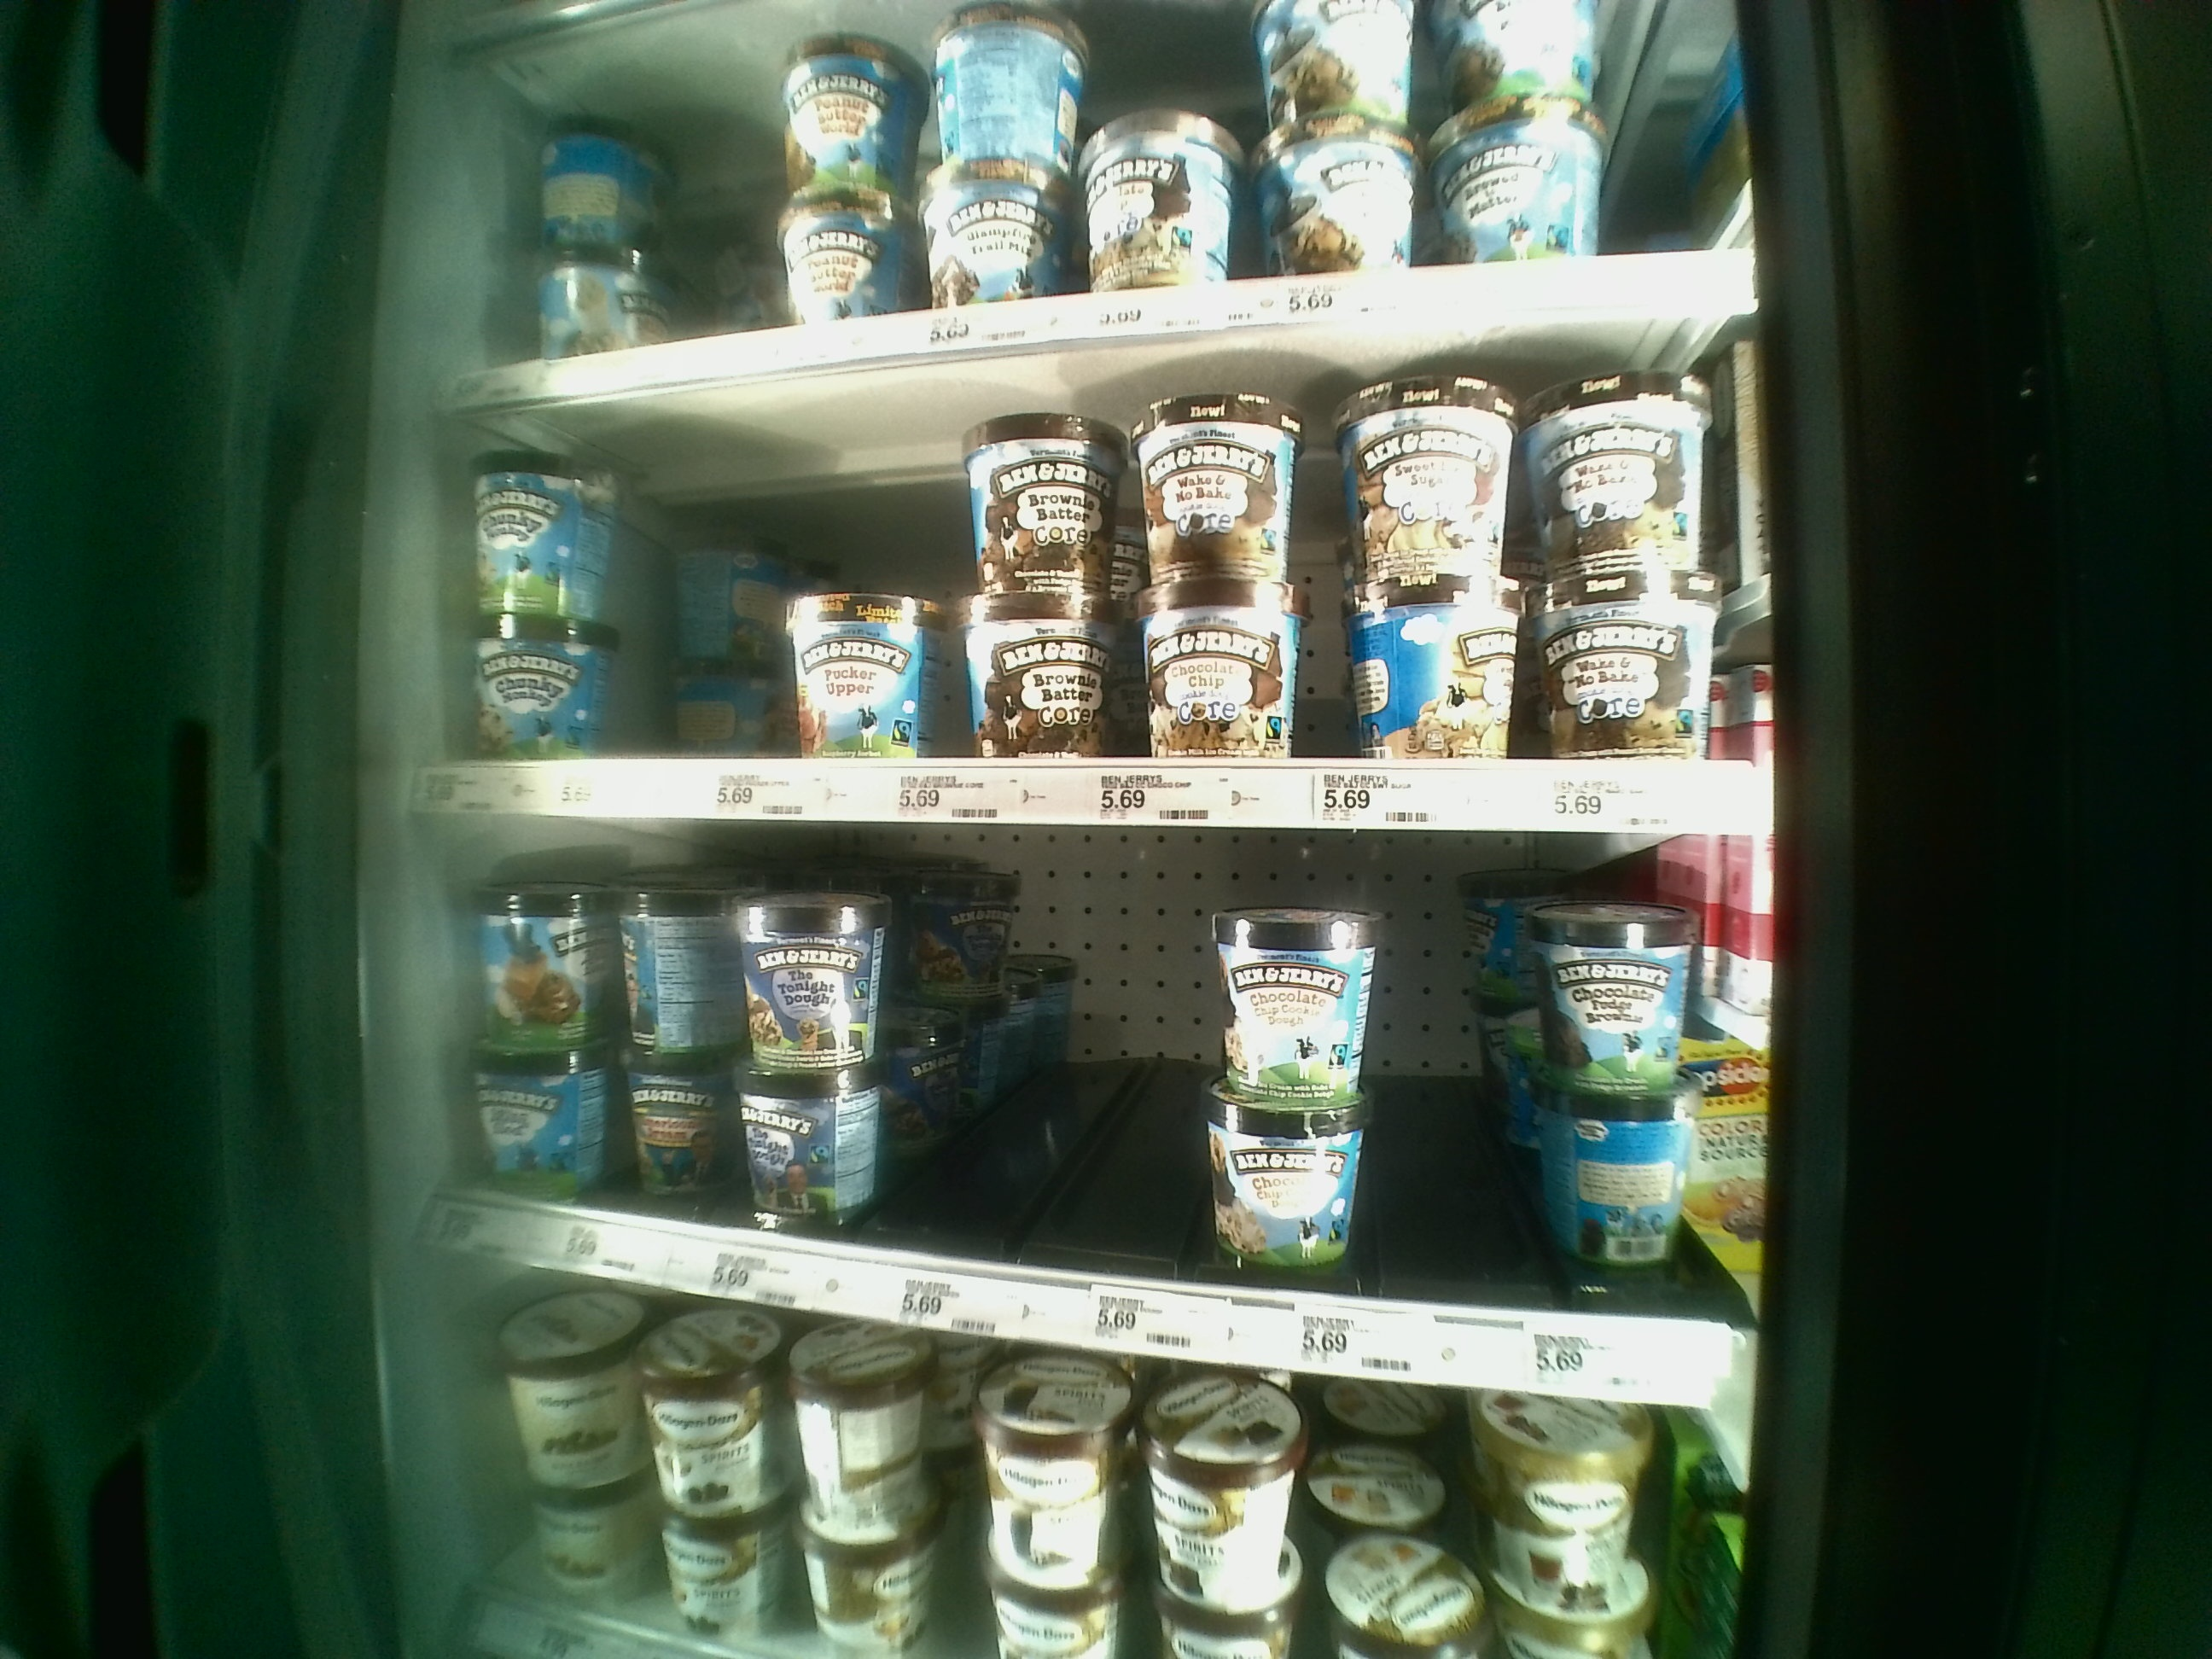shelf: (435, 817, 1757, 1413), (435, 310, 1764, 817)
